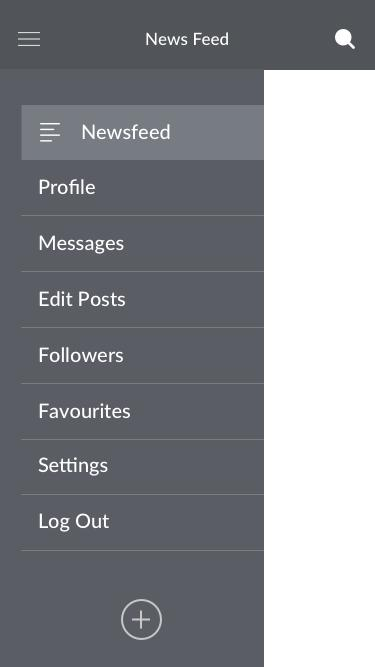Drawer: (1, 71, 264, 667)
Icon: (121, 599, 163, 641), (334, 29, 356, 50), (41, 123, 63, 143), (19, 32, 42, 48)
Text: (40, 235, 125, 255), (83, 124, 171, 141), (40, 403, 132, 419), (40, 346, 124, 363), (40, 512, 110, 532), (40, 291, 126, 307), (39, 457, 109, 476), (146, 32, 229, 47), (40, 178, 97, 195)
